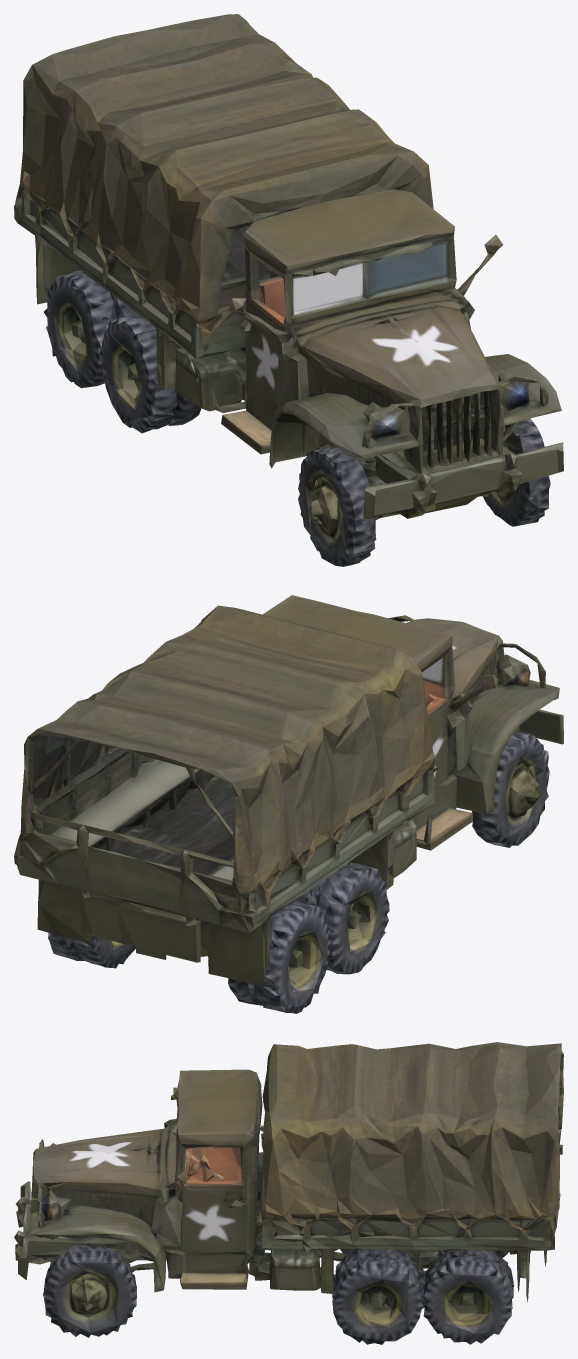
File: gmc_hull.obj
The picture shows the model from 3 angles, top to bottom: view 1: azimuth 30°, elevation 25°; view 2: azimuth 150°, elevation 25°; view 3: azimuth 270°, elevation 25°; orthographic projection. The views are drawn at different scales.
Parts seen in each view (by area): view 1: gmc_hull; view 2: gmc_hull; view 3: gmc_hull.
Part boxes in pixels (box(x1,y1,x2,y2)): gmc_hull: box(14, 14, 563, 566); gmc_hull: box(14, 595, 563, 1013); gmc_hull: box(14, 1042, 563, 1344).
Bounding box in the file's own units: 3.11 × 3.19 × 6.93.
1 material, 1 textured.
